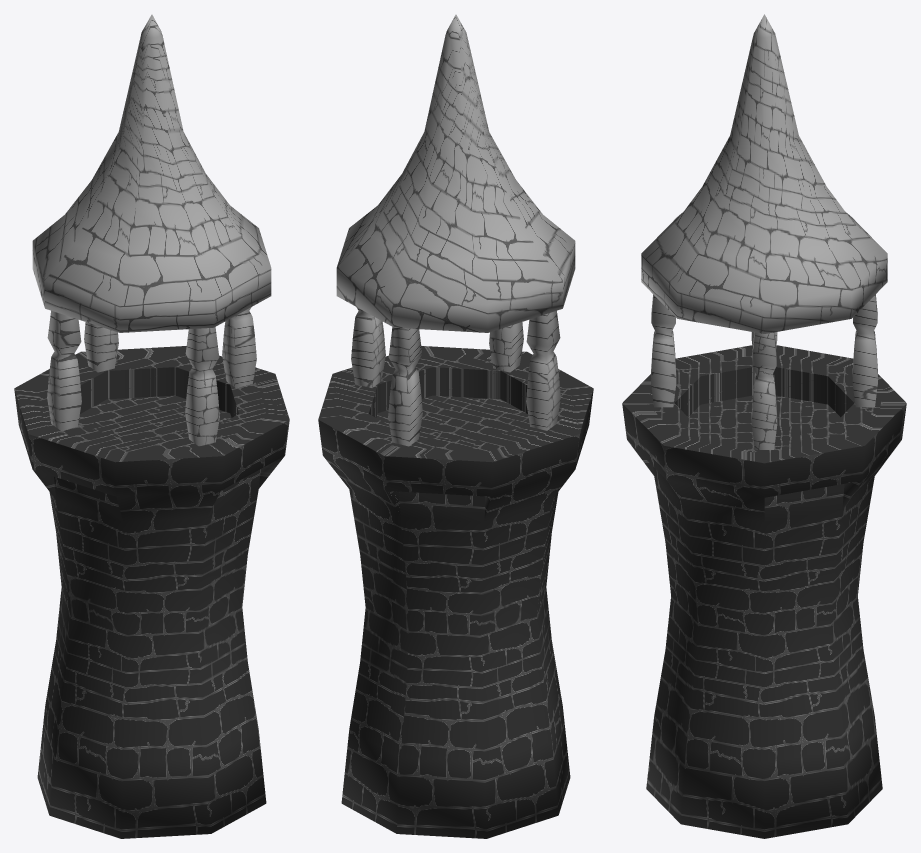
Rendered from WizardTowerHighRes.glb.
3 renders of one model, left to right at view 1: azimuth 30°, elevation 25°; view 2: azimuth 150°, elevation 25°; view 3: azimuth 270°, elevation 25°, orthographic.
Parts seen in each view (by area): view 1: Cylinder, Cone, Cube; view 2: Cylinder, Cone, Cube; view 3: Cylinder, Cone, Cube.
Part boxes in pixels (left/top/right/bottom): Cylinder: left=14, top=346, right=289, bottom=838; Cone: left=32, top=14, right=271, bottom=332; Cube: left=47, top=307, right=256, bottom=446; Cylinder: left=318, top=346, right=593, bottom=838; Cone: left=336, top=14, right=575, bottom=332; Cube: left=351, top=307, right=560, bottom=446; Cylinder: left=622, top=345, right=906, bottom=838; Cone: left=641, top=14, right=887, bottom=333; Cube: left=651, top=294, right=877, bottom=449.
Bounding box in the file's own units: 0.6236 × 1.87 × 0.6236.
Materials: 2 (2 with a texture image).
